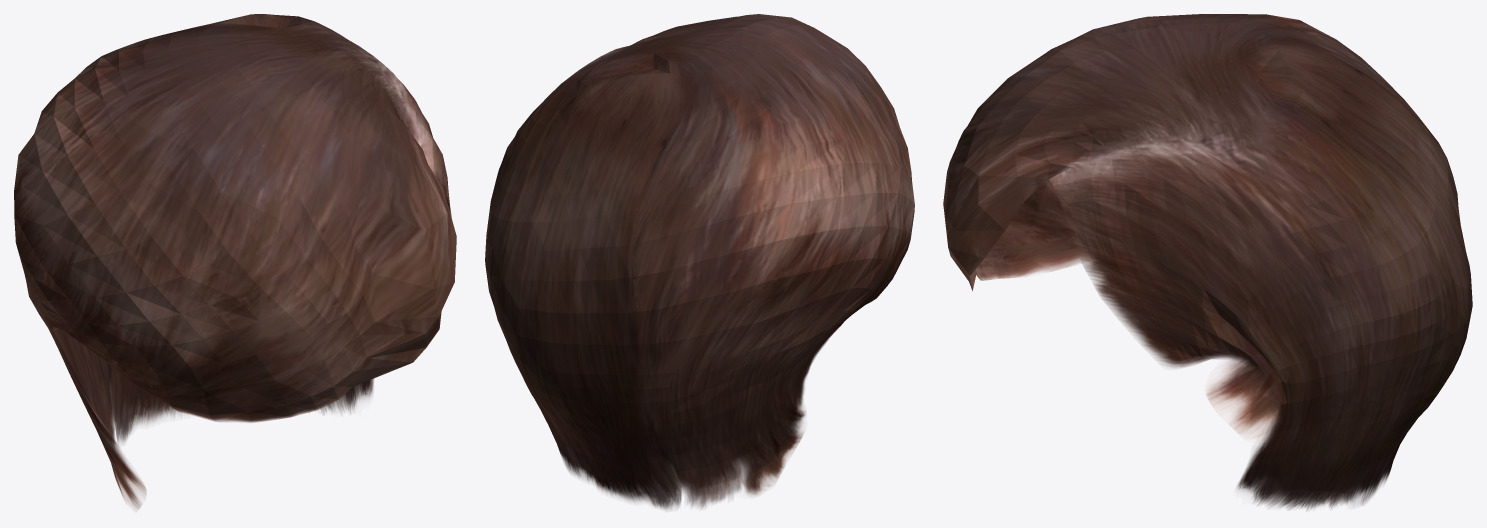
File: curtain-bangs-cc0.glb
3 renders of one model, left to right at view 1: azimuth 30°, elevation 25°; view 2: azimuth 150°, elevation 25°; view 3: azimuth 270°, elevation 25°, orthographic. The views are drawn at different scales.
Parts seen in each view (by area): view 1: Node; view 2: Node; view 3: Node.
Boxes of the visible parts, x1,y1,x2,y2 form: Node: [14, 14, 456, 509]; Node: [485, 14, 914, 509]; Node: [943, 14, 1472, 510].
Size of the model in its own units: 1.71 by 2.01 by 2.13.
Materials: 1 (1 with a texture image).
